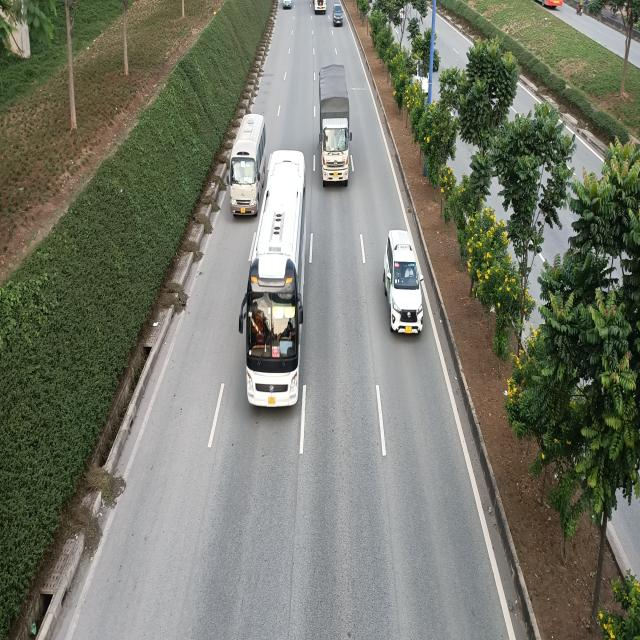car: (385, 230, 426, 337)
coach: (238, 152, 310, 411), (225, 114, 266, 216)
truck: (318, 64, 352, 185)
